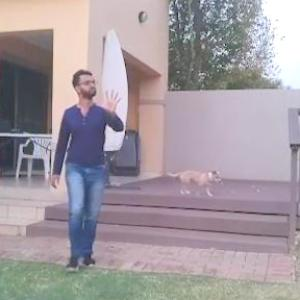follow_hand: (99, 81, 127, 117)
